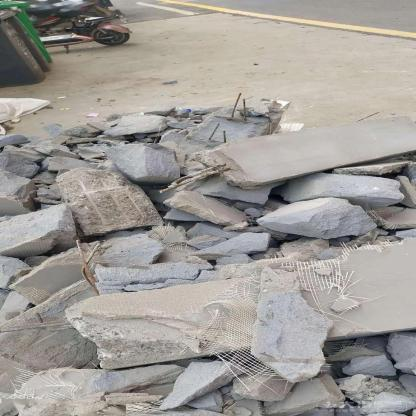rebar: (159, 163, 222, 194), (80, 241, 107, 294), (227, 95, 252, 123), (207, 122, 231, 144)
